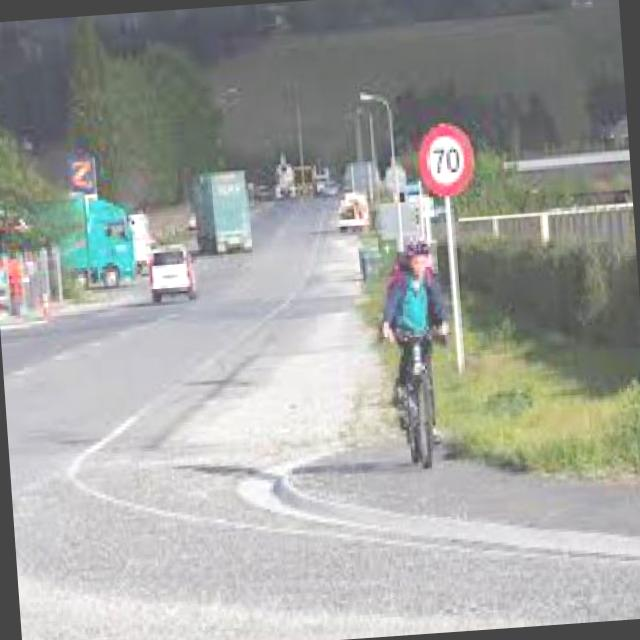Ograniczenie predkosci do 70: (416, 114, 479, 207)
